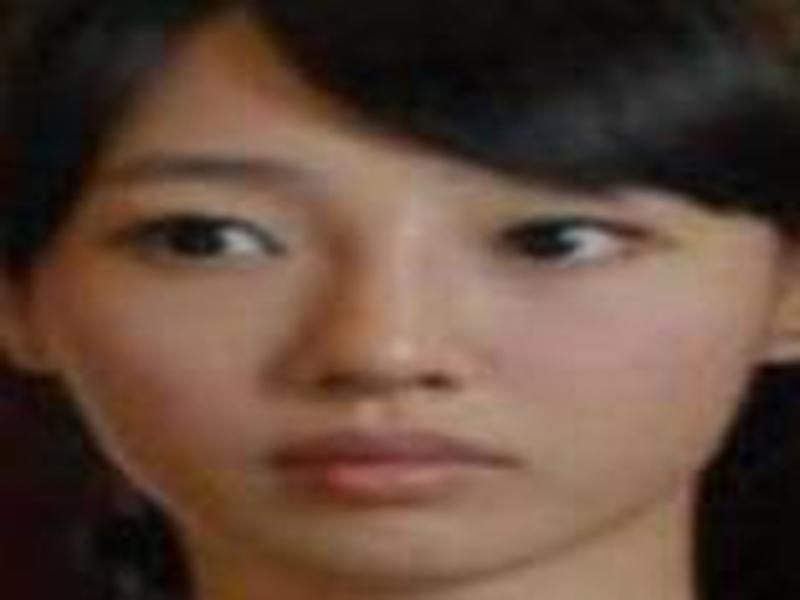without_mask: (44, 78, 766, 578)
